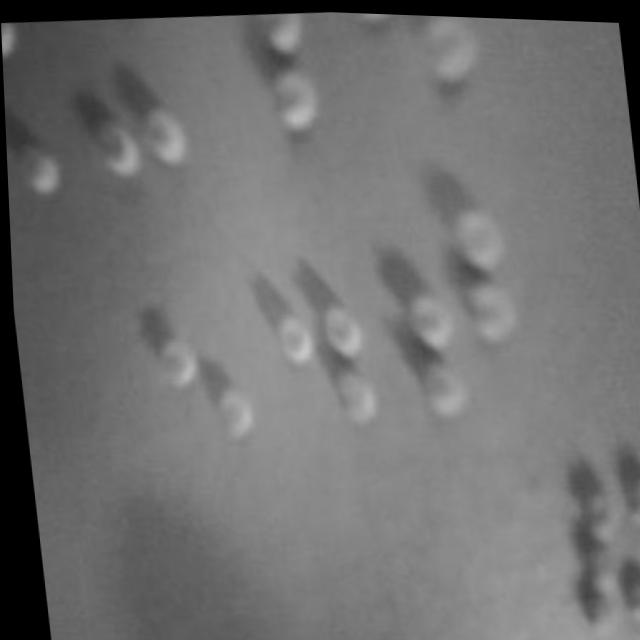braiile: (231, 188, 386, 449), (382, 175, 532, 441), (117, 205, 251, 453), (42, 11, 191, 200), (181, 6, 321, 147), (550, 427, 640, 640), (335, 10, 486, 106), (1, 19, 58, 216)
